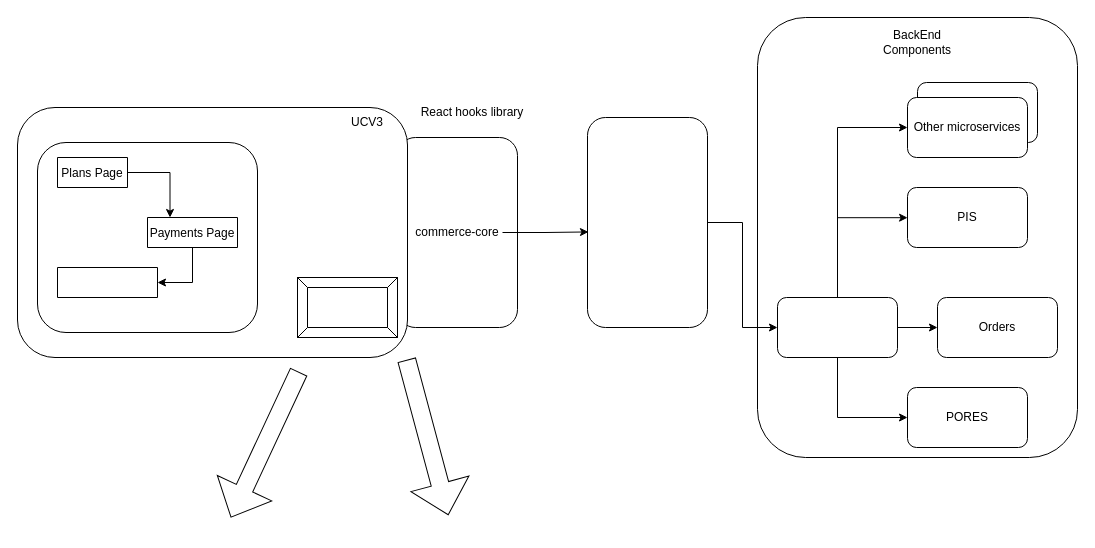
The diagram is 1095 pixels wide and 548 high, and some of its shapes have lost their labels. The shapes that lost their labels are listed below. From the top down, each one's centre as x and y in pixels, then its label:
At point 647,222: "GraphQL Service".
At point 107,282: "Confirmation".
At point 347,307: "Pandora".
At point 837,327: "JIL".
